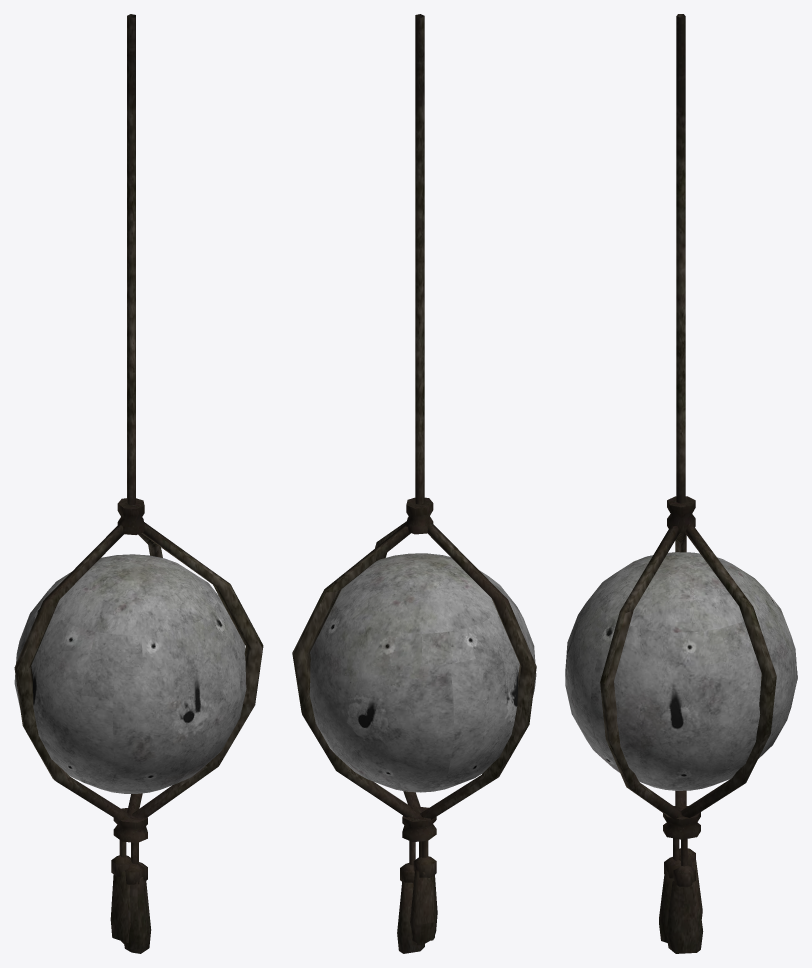
The model's file is in_incense.glb.
3 views of the same model, side by side, from view 1: azimuth 30°, elevation 25°; view 2: azimuth 150°, elevation 25°; view 3: azimuth 270°, elevation 25° (orthographic).
Parts seen in each view (by area): view 1: burner_Incense burner_0, Cylinder001_Incense rope_0; view 2: burner_Incense burner_0, Cylinder001_Incense rope_0; view 3: burner_Incense burner_0, Cylinder001_Incense rope_0.
Part boxes in pixels (<box>): burner_Incense burner_0: <box>14,554,246,793</box>; Cylinder001_Incense rope_0: <box>14,14,263,953</box>; burner_Incense burner_0: <box>309,553,536,792</box>; Cylinder001_Incense rope_0: <box>292,14,536,953</box>; burner_Incense burner_0: <box>565,552,797,790</box>; Cylinder001_Incense rope_0: <box>600,14,776,953</box>.
Bounding box in the file's own units: 0.0291 × 0.12 × 0.0272.
2 materials, 2 textured.
